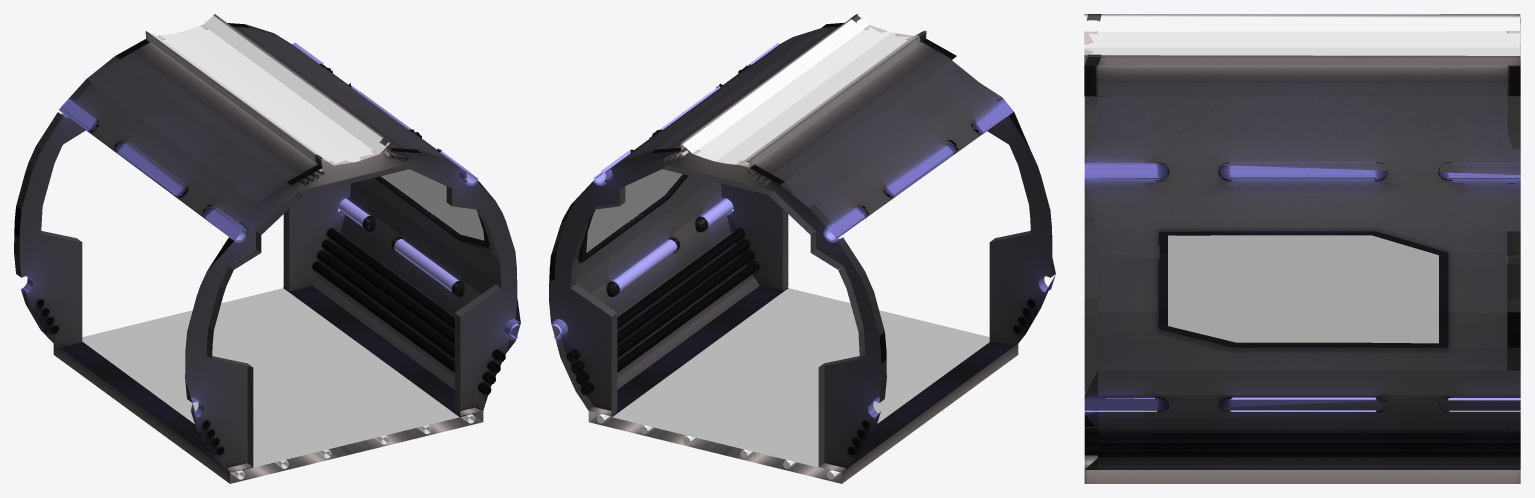
Rendered from Modulo_corridoio_low_poly_SX.fbx.
3 views of the same model, side by side, from view 1: azimuth 30°, elevation 25°; view 2: azimuth 150°, elevation 25°; view 3: azimuth 270°, elevation 25° (orthographic). The views are drawn at different scales.
Parts seen in each view (by area): view 1: Corridoio_001, Pavimento_001, Vetri; view 2: Corridoio_001, Pavimento_001, Vetri; view 3: Corridoio_001, Vetri.
Boxes of the visible parts, x1,y1,x2,y2 form: Corridoio_001: (14,14,520,483); Pavimento_001: (82,288,459,467); Vetri: (381,169,484,240); Corridoio_001: (549,14,1055,483); Pavimento_001: (612,288,989,467); Vetri: (586,169,682,252); Corridoio_001: (1084,14,1520,483); Vetri: (1168,235,1438,343).
Bounding box in the file's own units: 7.03 × 6.1 × 6.47.
